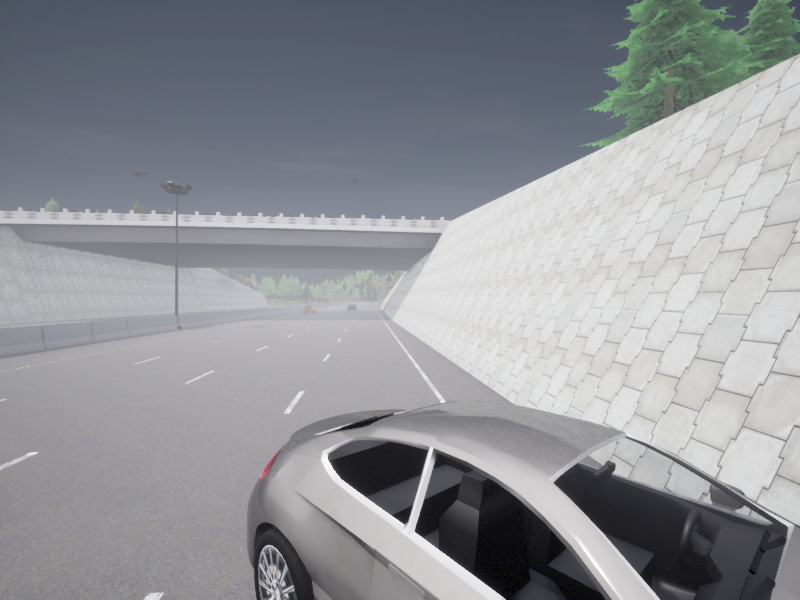vehicle: (247, 399, 799, 599), (303, 305, 315, 313), (347, 304, 356, 310)
